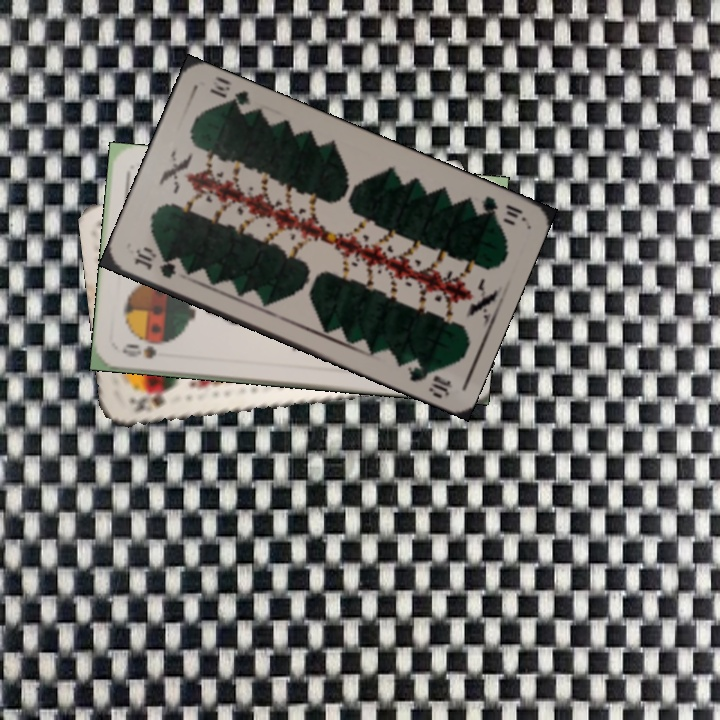G10: (130, 244, 179, 281), (477, 192, 526, 223)
SK: (125, 386, 175, 415)
SO: (118, 339, 159, 361)
